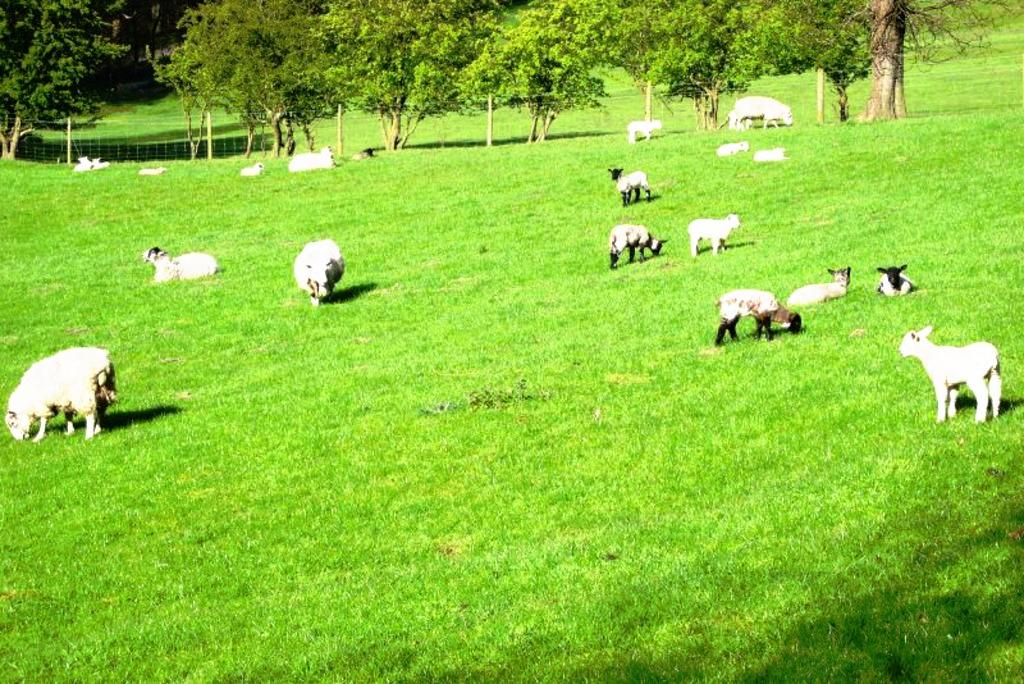Sheep: (6, 344, 120, 444), (898, 326, 1002, 422), (716, 288, 802, 344), (290, 241, 344, 305), (144, 244, 216, 282), (784, 268, 854, 301), (610, 223, 664, 264), (734, 94, 790, 128), (688, 212, 734, 252), (606, 166, 652, 204), (870, 264, 916, 294)
